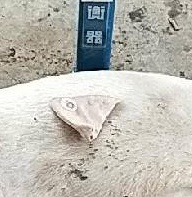text: (51, 86, 93, 129)
